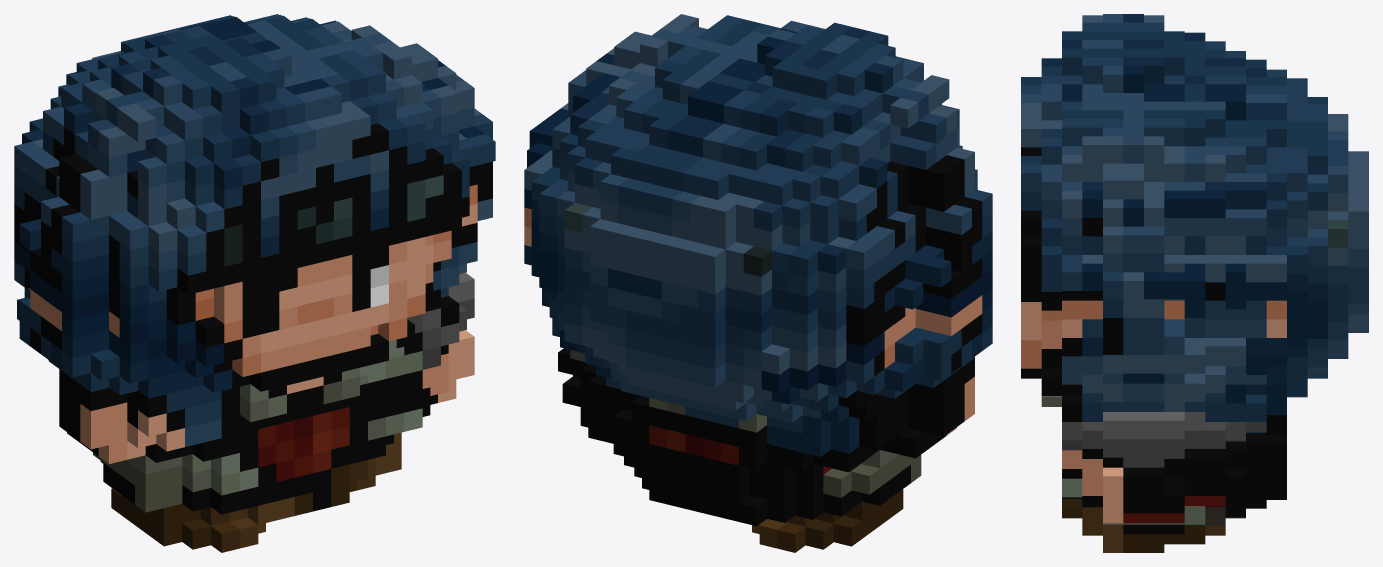
The model's file is Icon_752_03.obj.
3 views of the same model, side by side, from view 1: azimuth 30°, elevation 25°; view 2: azimuth 150°, elevation 25°; view 3: azimuth 270°, elevation 25° (orthographic). The views are drawn at different scales.
Size of the model in its own units: 2.3 by 2.4 by 1.7.
